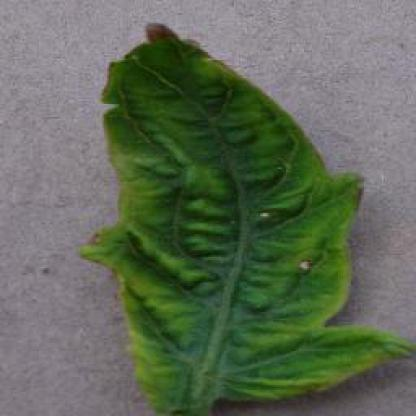good leaf: (64, 3, 387, 414)
